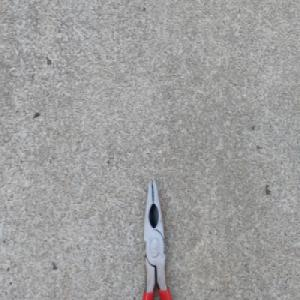Pliers: (139, 176, 174, 300)
